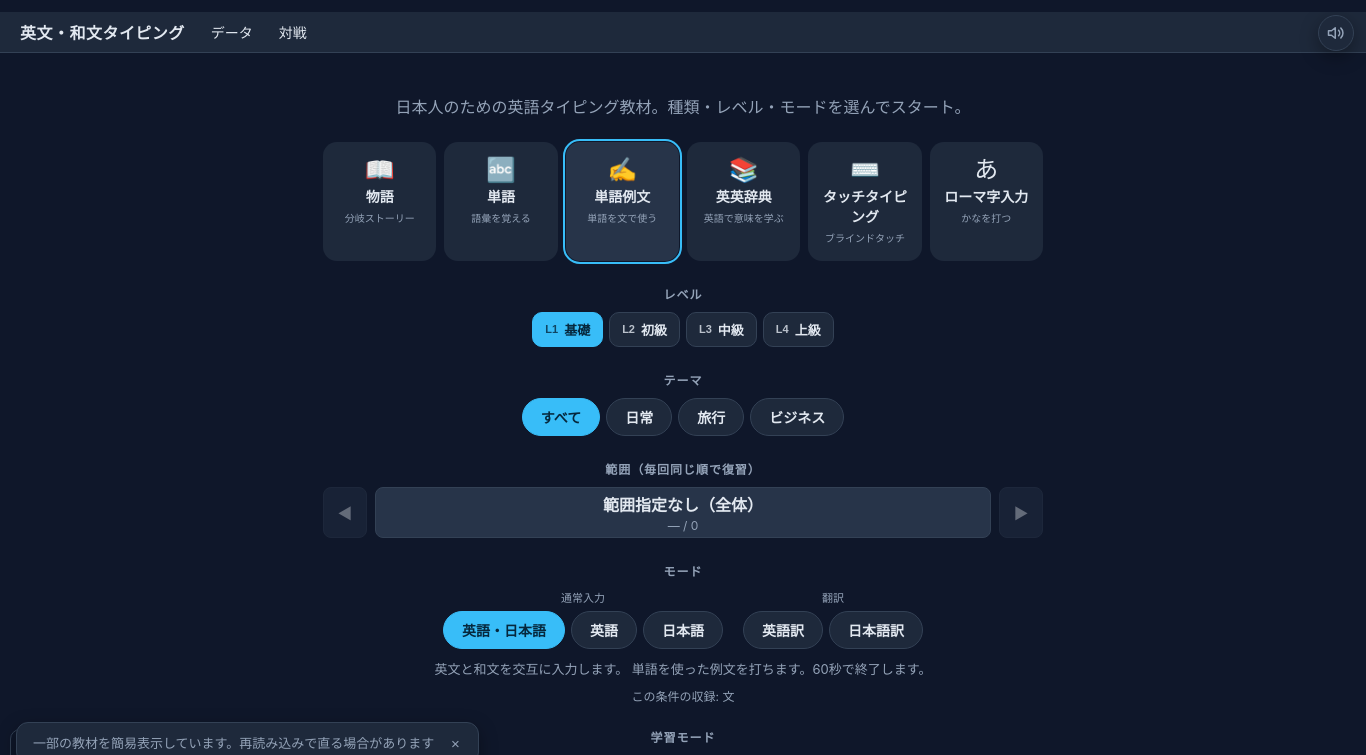
Test case: App スモーク › 「このアプリについて」で紹介ページへ、「はじめる」でトップへ戻る
Click the menu item "英文・和文タイピング" at (102, 32), box [8,12,197,52]
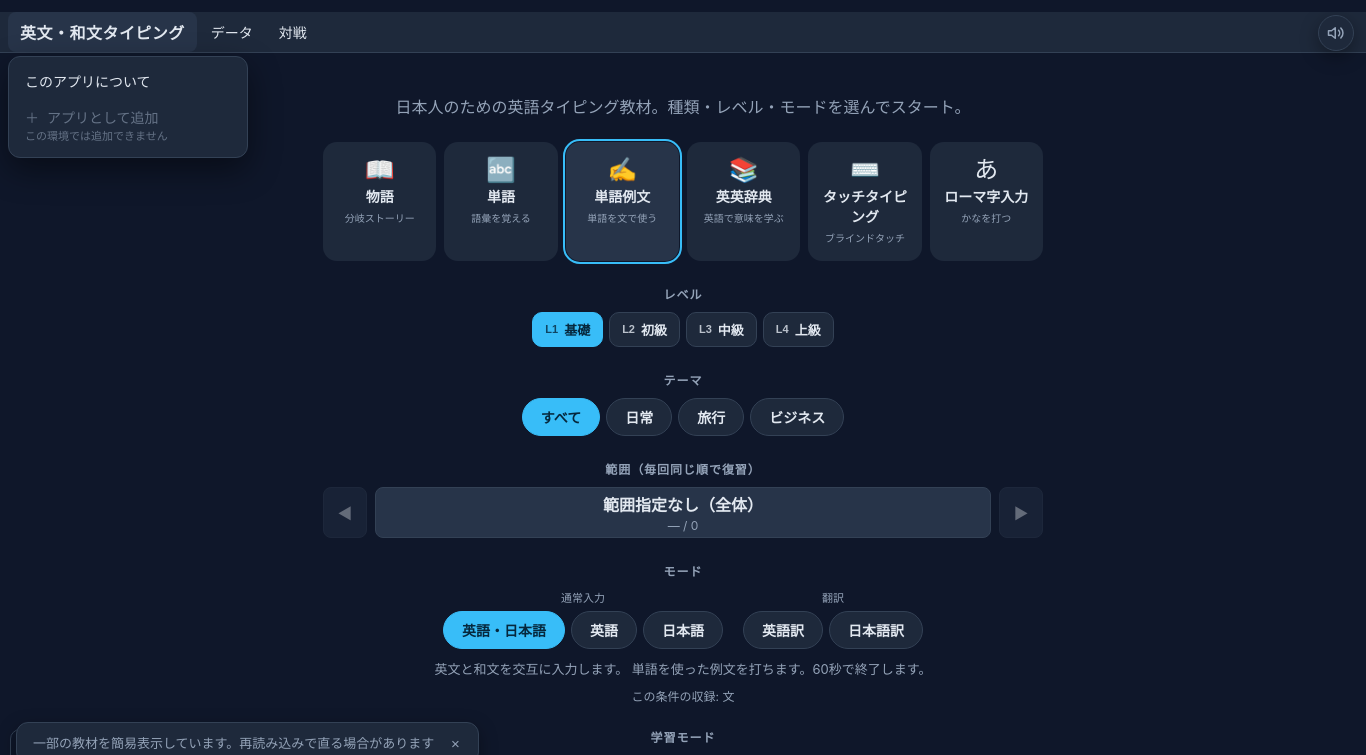
Click the menu item "このアプリについて" at (128, 81), box [15,63,241,99]
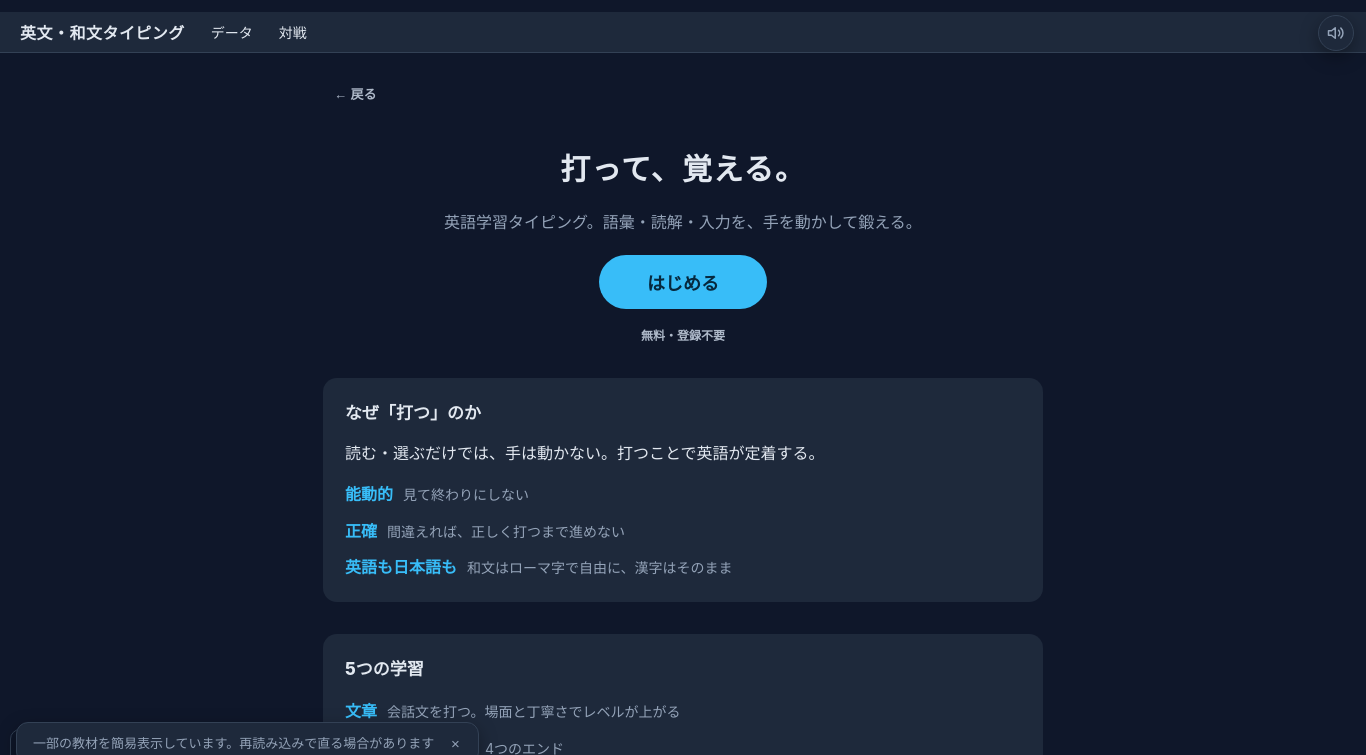
Expected: the element with class "type-tabs" is gone
Expected: the heading "打って、覚える。" is shown, [560,151,806,187]
Click the button "はじめる" at (683, 282), box [599,255,767,309]
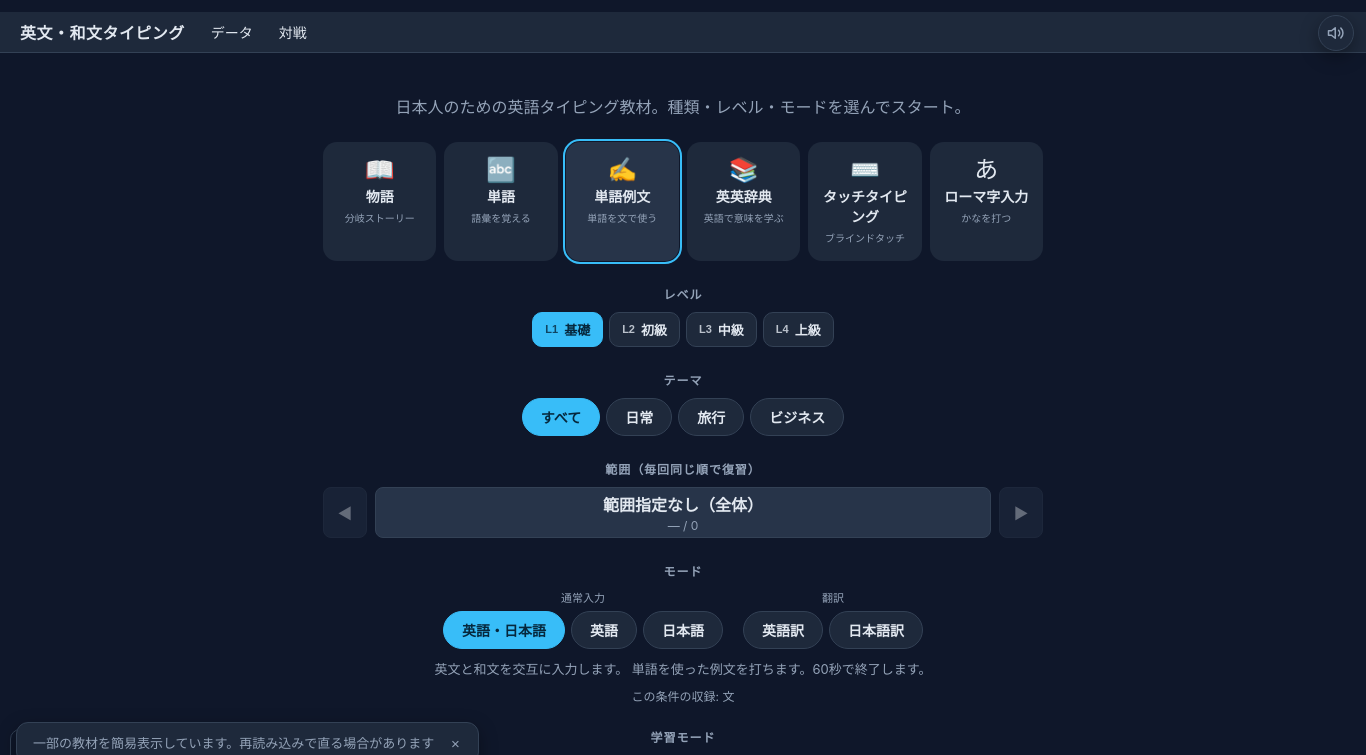
Expected: the element with class "type-tabs" is shown, [323,142,1043,261]
